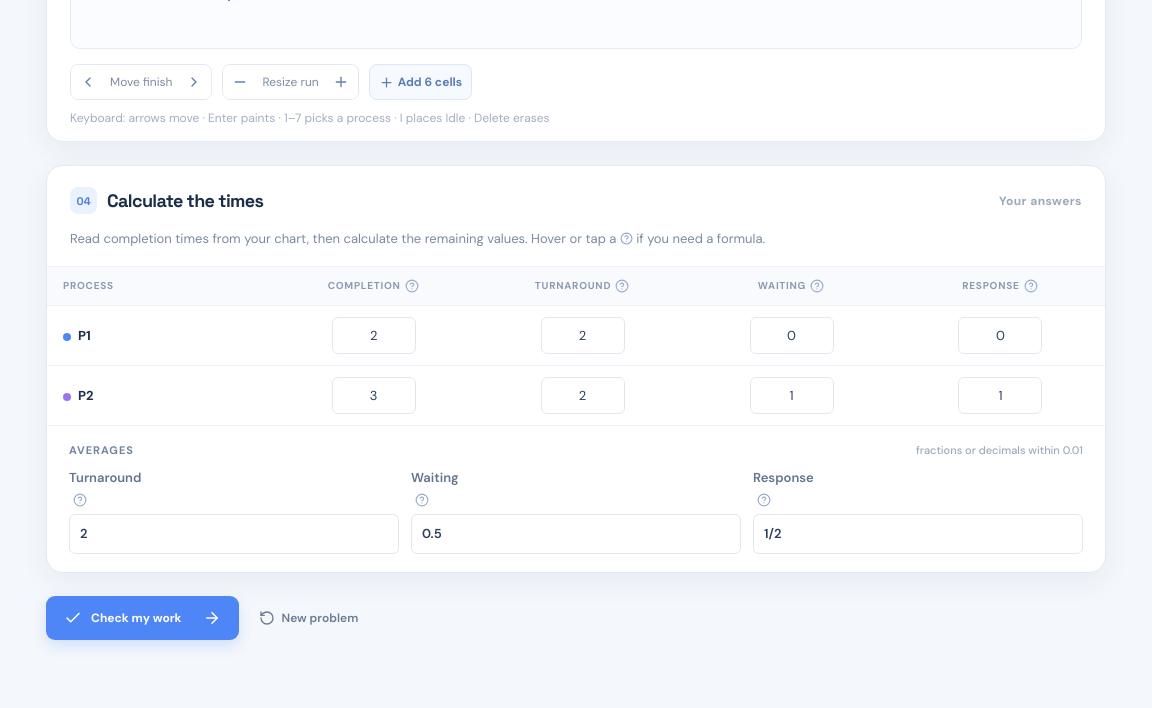
Test case: timeline and grading › ignores workspace cells beyond Finish when checking a correct answer
(page scrolled)
Click the button "Check my work": (142, 618) [46,596,239,640]
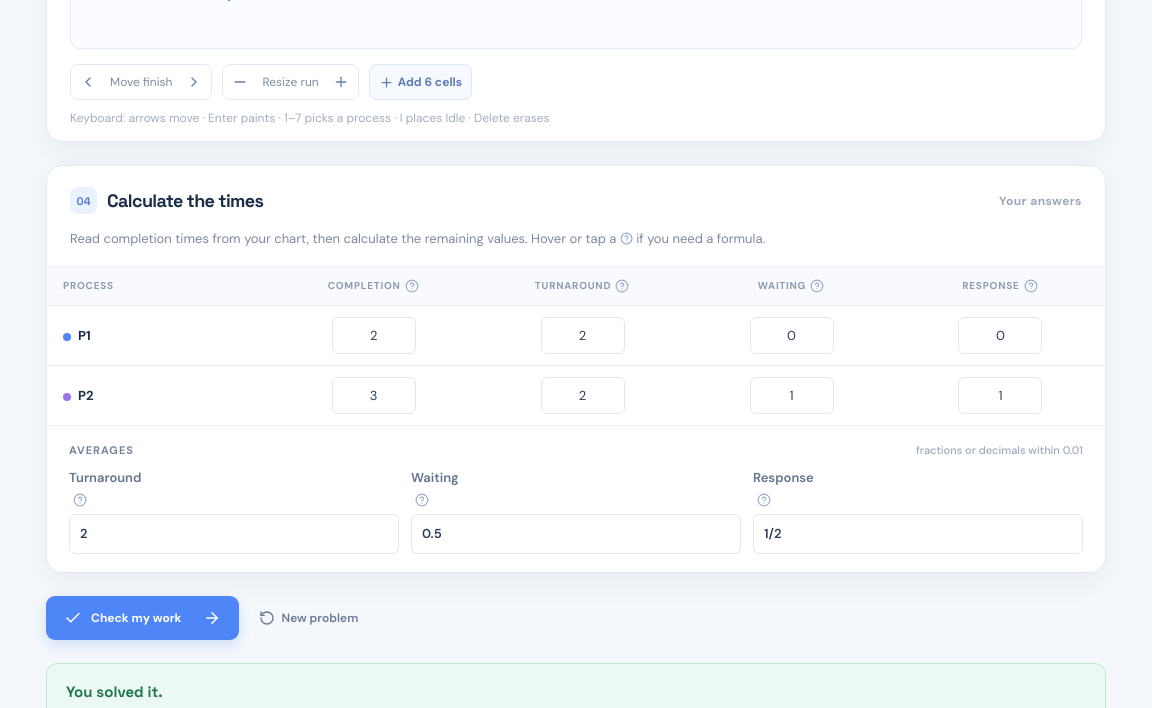
Check: the text "You solved it." is shown, box [66,682,163,701]
